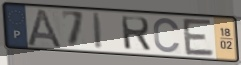7: (60, 9, 86, 49)
A: (24, 8, 64, 49)
C: (152, 17, 183, 55)
E: (181, 17, 217, 58)
I: (91, 11, 104, 51)
R: (119, 15, 153, 53)
